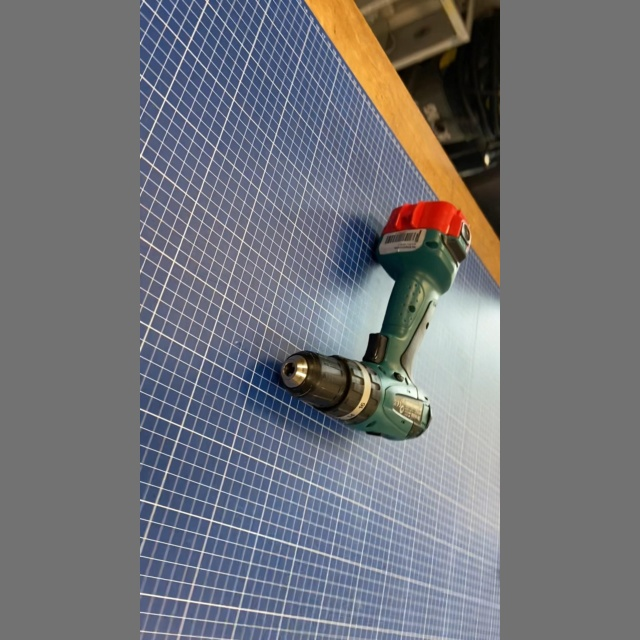drill: (275, 196, 476, 445)
